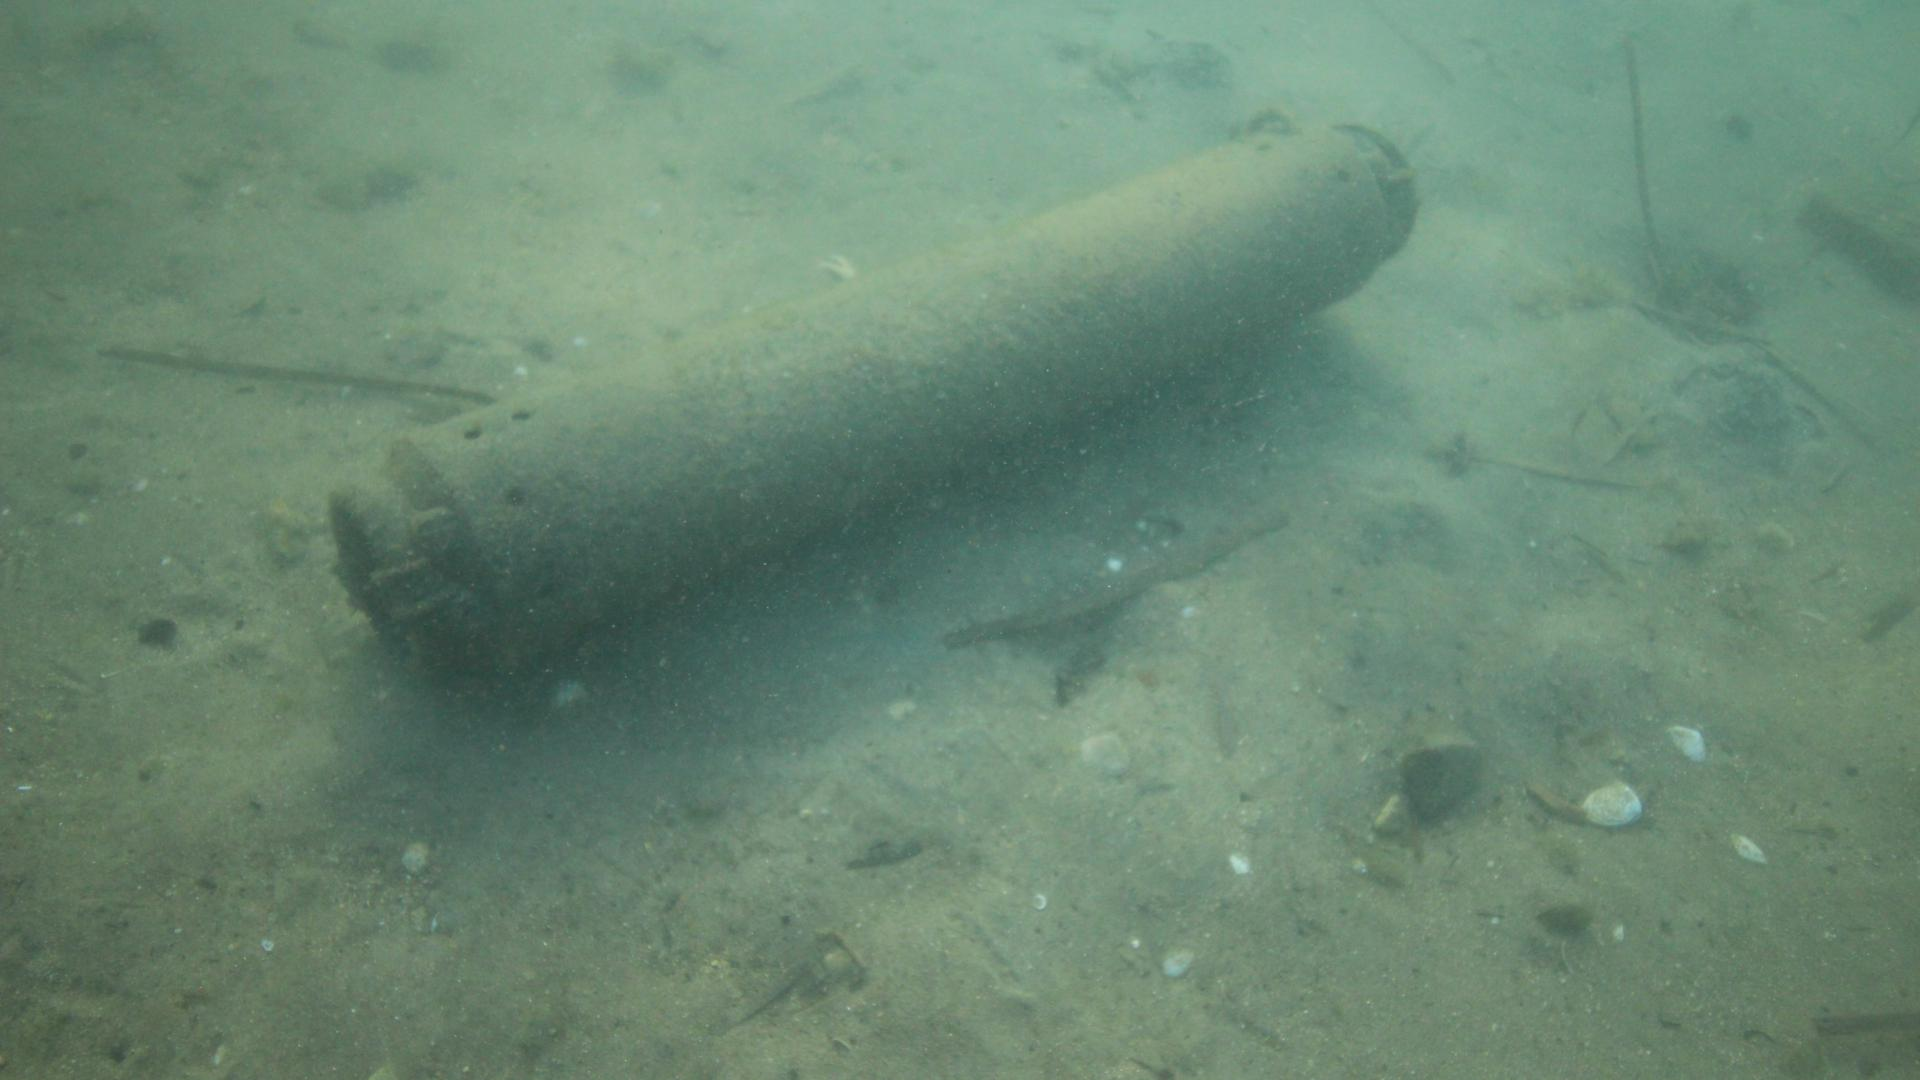eel fish trap: (327, 119, 1420, 684)
